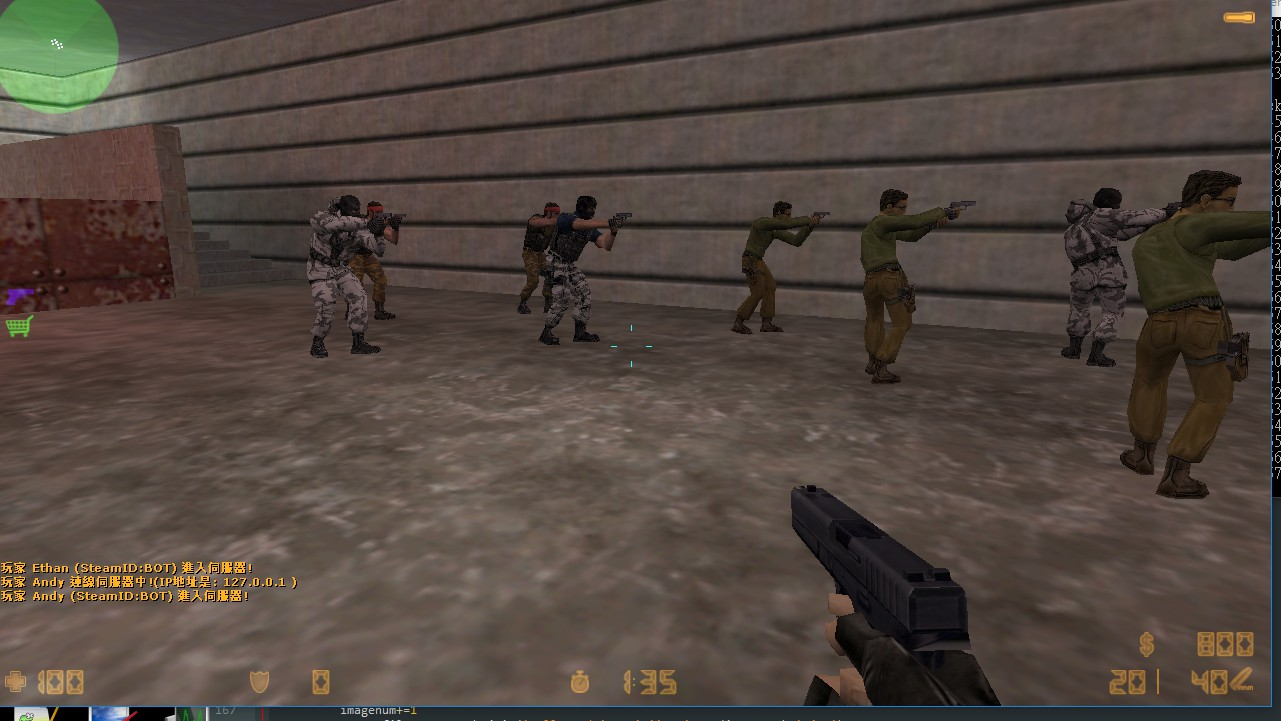person: (1122, 164, 1243, 500), (734, 198, 824, 341), (544, 187, 623, 345), (306, 187, 376, 357), (867, 189, 924, 390), (1065, 184, 1124, 370), (524, 196, 552, 313)
